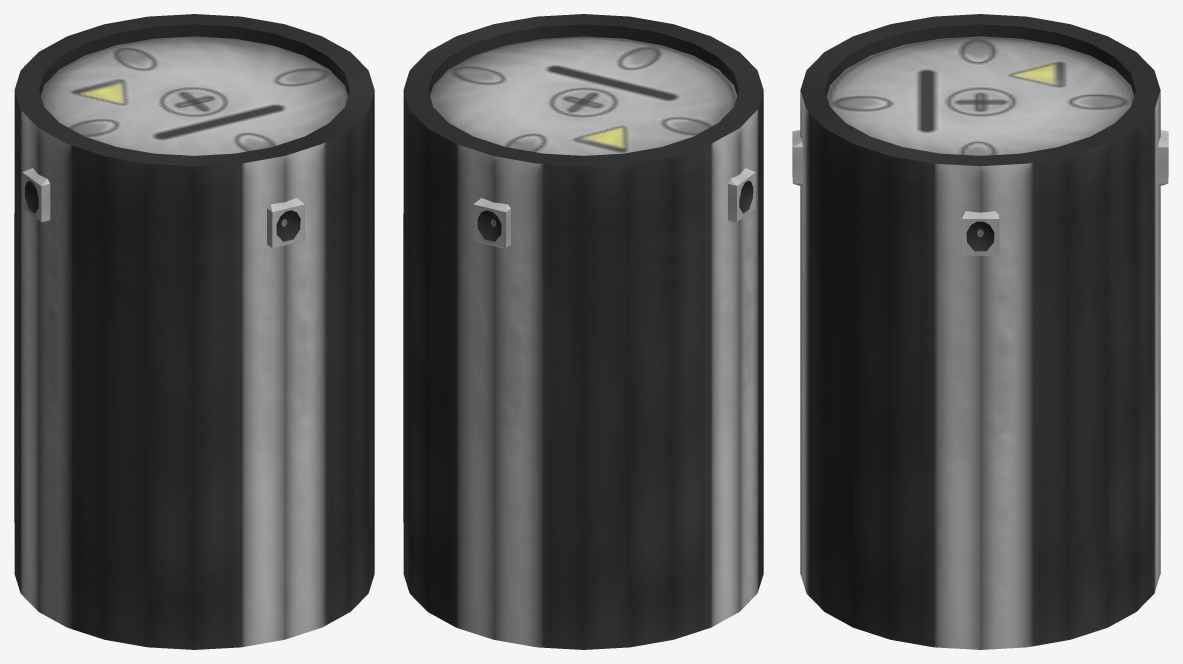
Rendered from FCP.FBX.
3 renders of one model, left to right at view 1: azimuth 30°, elevation 25°; view 2: azimuth 150°, elevation 25°; view 3: azimuth 270°, elevation 25°, orthographic.
Parts seen in each view (by area): view 1: MainBody, Box118, Box119; view 2: MainBody, cap, Box120, Box119; view 3: MainBody, cap, Box121, Box118, Box120.
Boxes of the visible parts, x1,y1,x2,y2 form: MainBody: (14,14,374,649); Box118: (267,198,304,248); Box119: (22,168,50,222); MainBody: (403,14,763,649); cap: (403,214,673,598); Box120: (473,198,510,248); Box119: (728,168,755,222); MainBody: (800,14,1160,649); cap: (1070,214,1160,588); Box121: (961,211,999,255); Box118: (792,130,802,185); Box120: (1158,130,1168,185).
Size of what is drawn, in the model's own units: 0.5633 by 0.7991 by 0.5634.
1 material, 1 textured.
